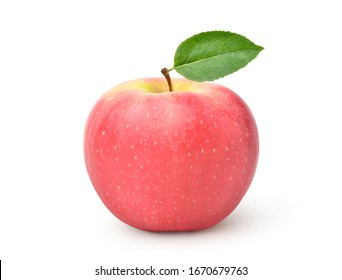apple: (81, 29, 267, 234)
